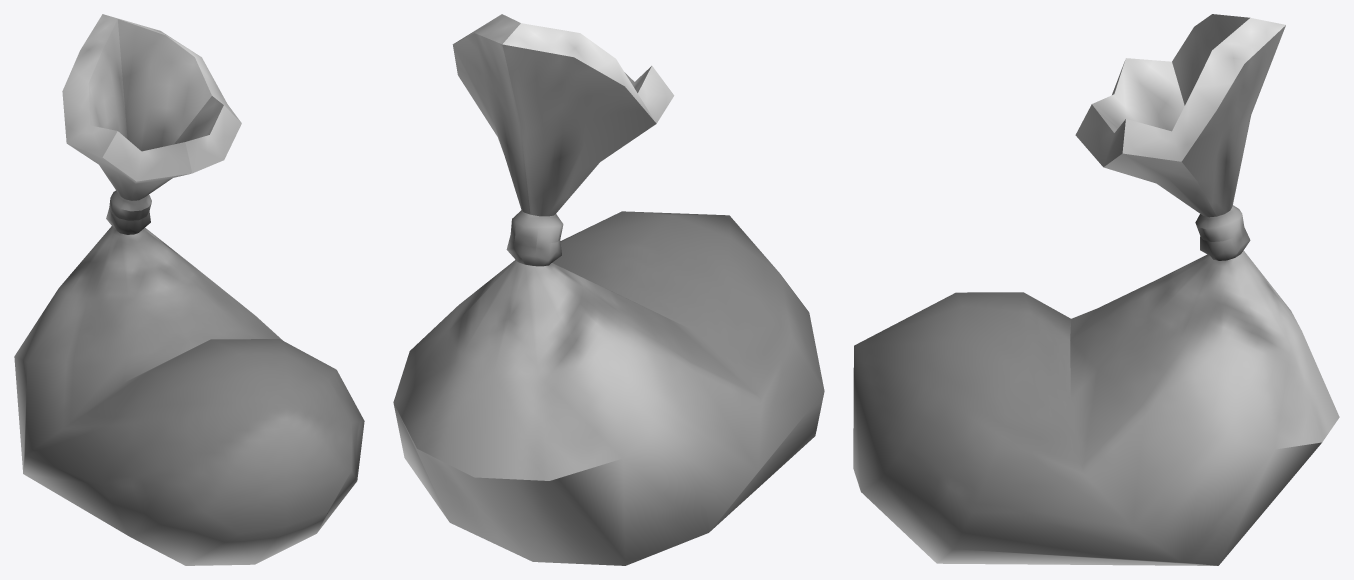
File: TrashBag.fbx
3 views of the same model, side by side, from view 1: azimuth 30°, elevation 25°; view 2: azimuth 150°, elevation 25°; view 3: azimuth 270°, elevation 25° (orthographic). The views are drawn at different scales.
Parts seen in each view (by area): view 1: TrashBag; view 2: TrashBag; view 3: TrashBag.
Part boxes in pixels (x1,y1,x2,y2): TrashBag: (14,14,364,565); TrashBag: (393,14,824,565); TrashBag: (853,14,1339,565).
Bounding box in the file's own units: 95.16 × 142 × 120.
Materials: 1 (1 with a texture image).
